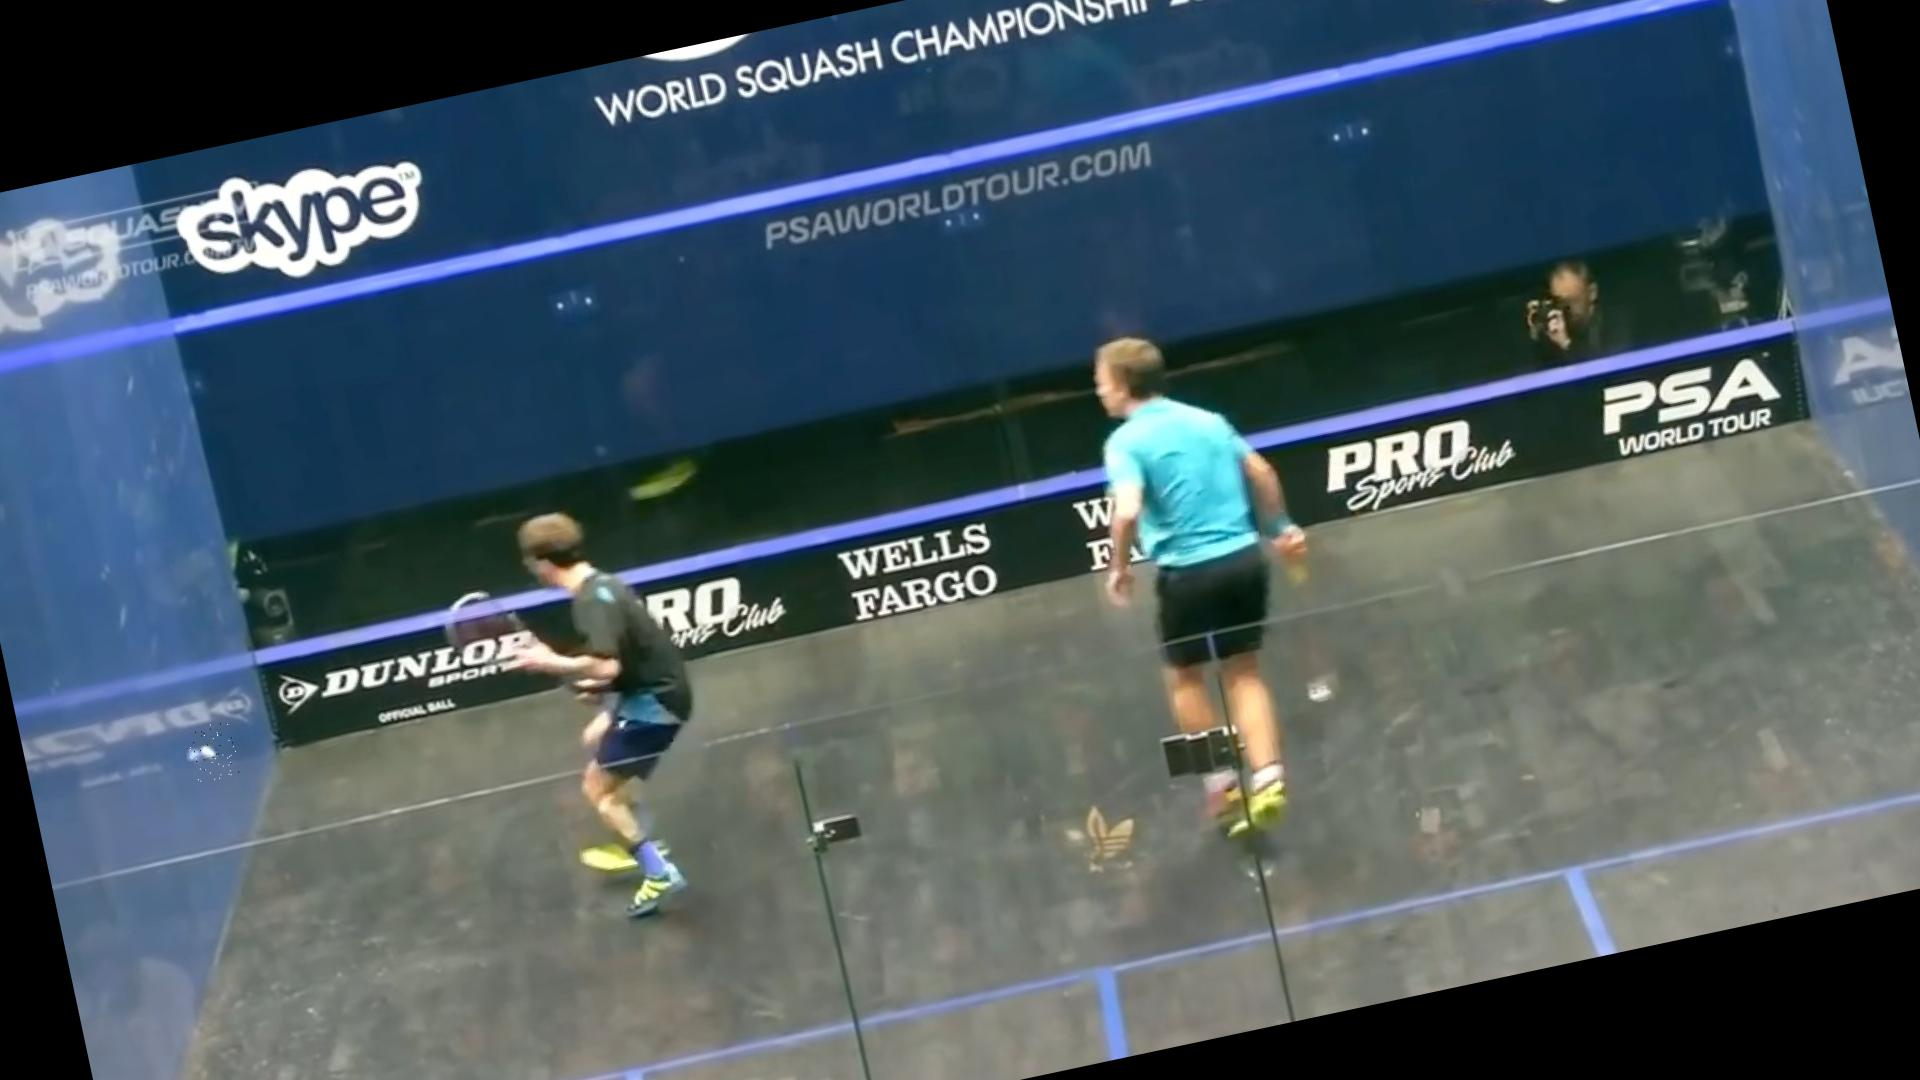Squash-Ball: (183, 716, 241, 785)
